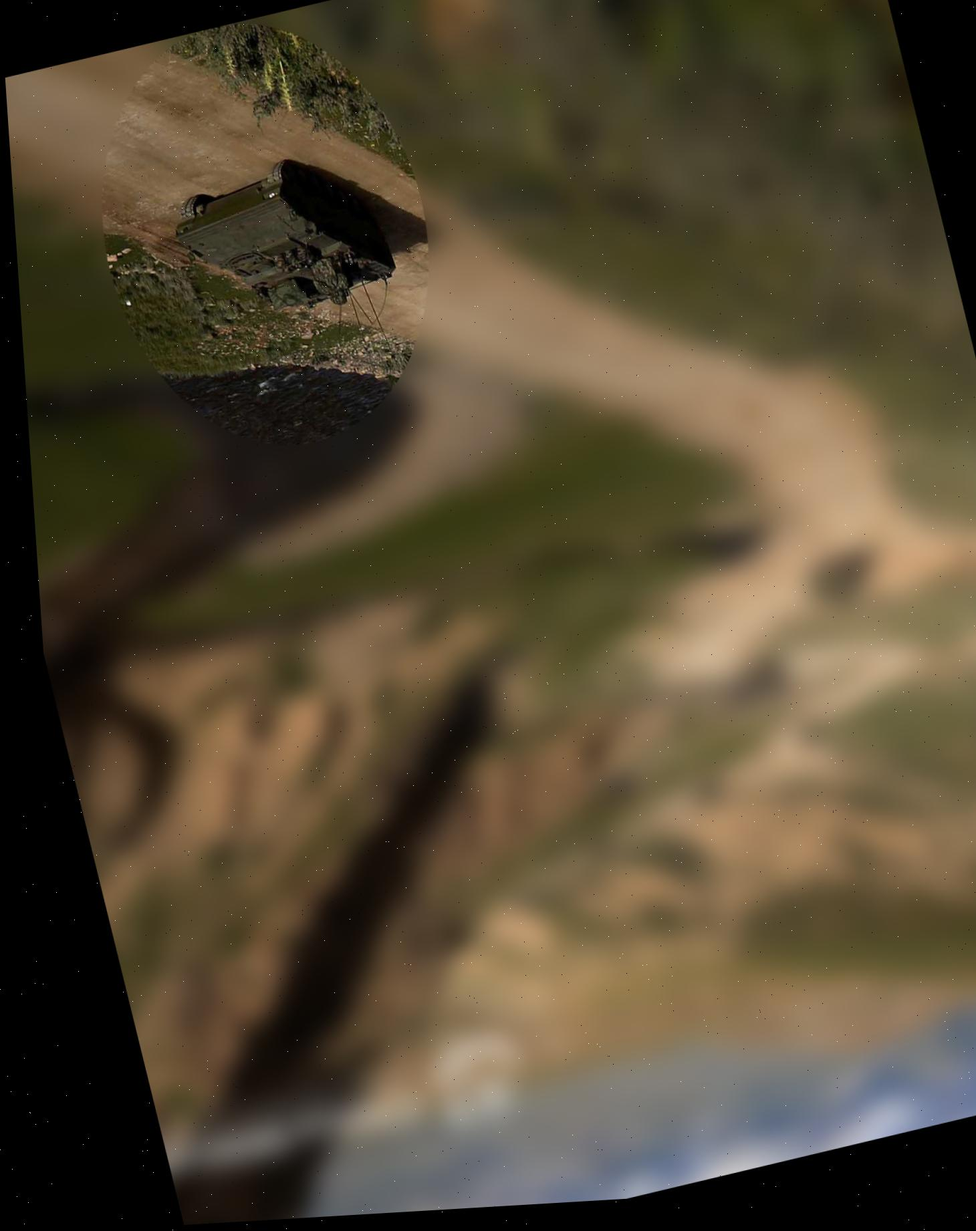armored_car: (140, 133, 416, 352)
